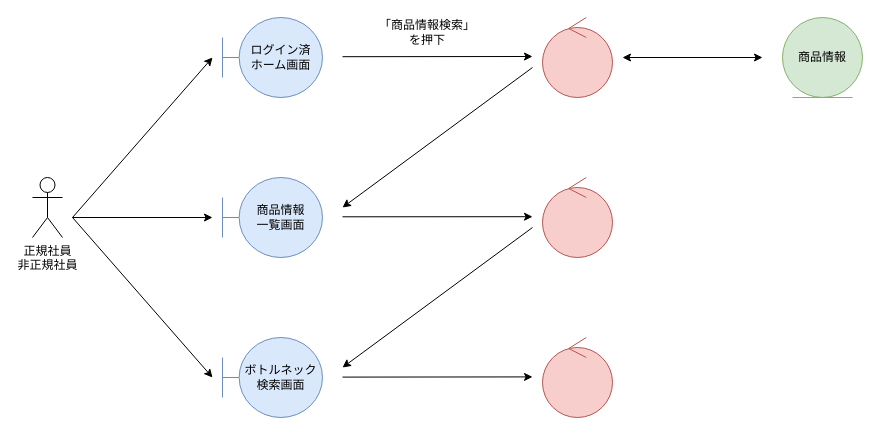
Image size: 880x435. Some labels were removed from this diagram. Each missing label, with the centre of its shape:
商品情報 を取得する: the point at 577,57
検索する: the point at 577,377
表示する: the point at 577,217
